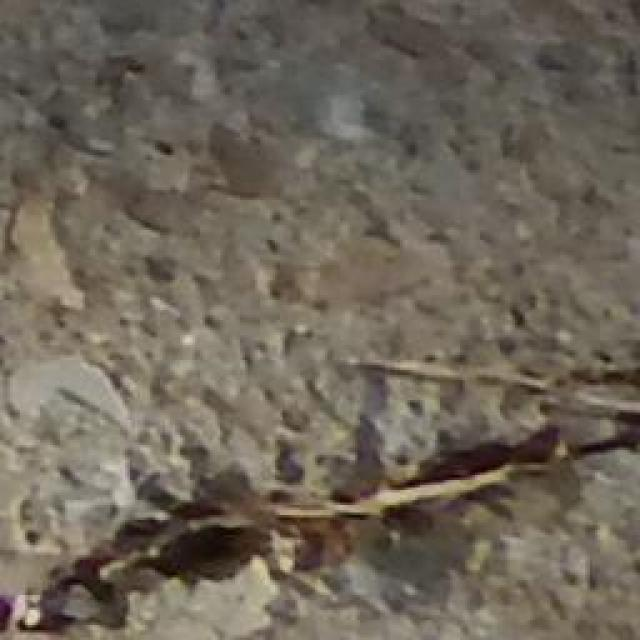concrete-crack: (0, 393, 640, 640)
